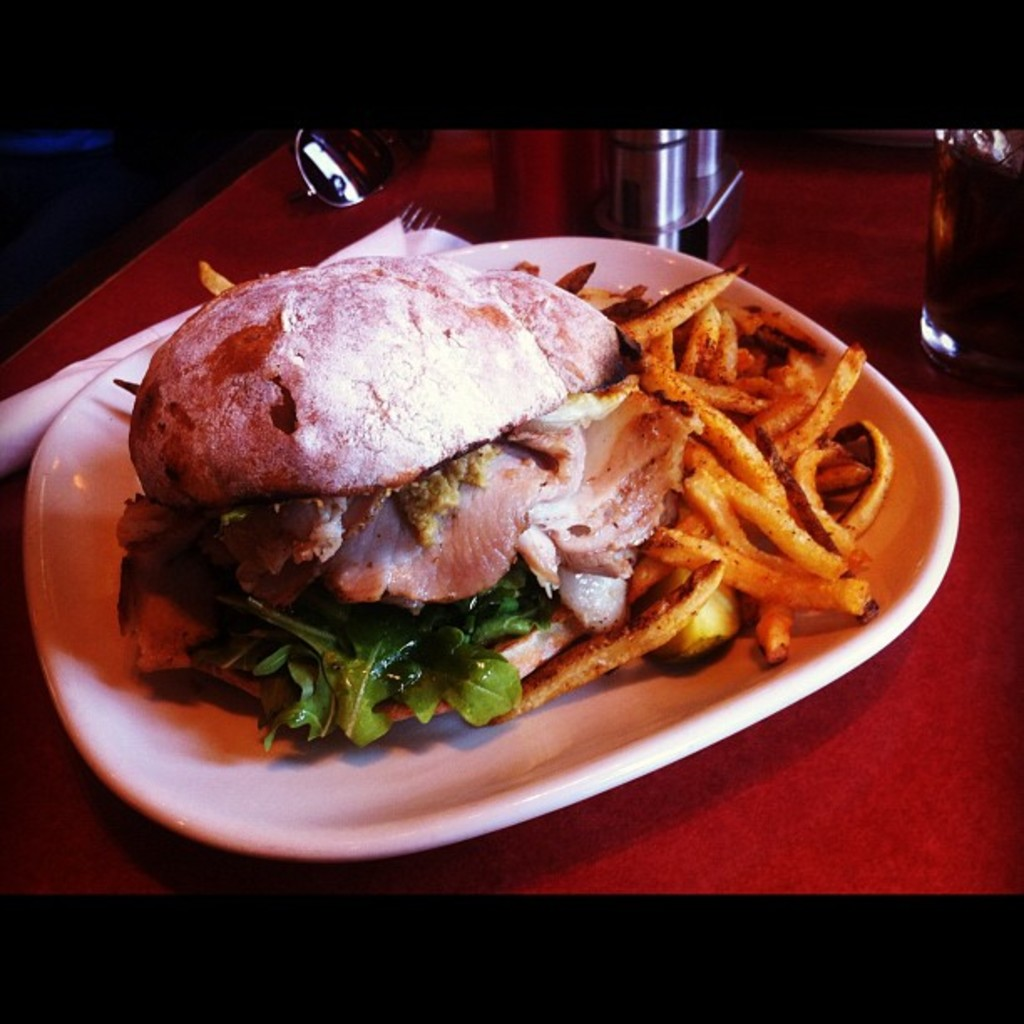French fries: (483, 558, 729, 729), (644, 351, 794, 515), (652, 515, 881, 612), (764, 343, 865, 461), (784, 445, 865, 575), (684, 465, 786, 565), (614, 262, 744, 334), (746, 349, 833, 441), (839, 421, 895, 532), (642, 356, 754, 406), (754, 593, 796, 674), (672, 302, 716, 374), (704, 312, 737, 386), (547, 256, 588, 297), (607, 286, 650, 319), (199, 257, 229, 297), (517, 259, 535, 274)
